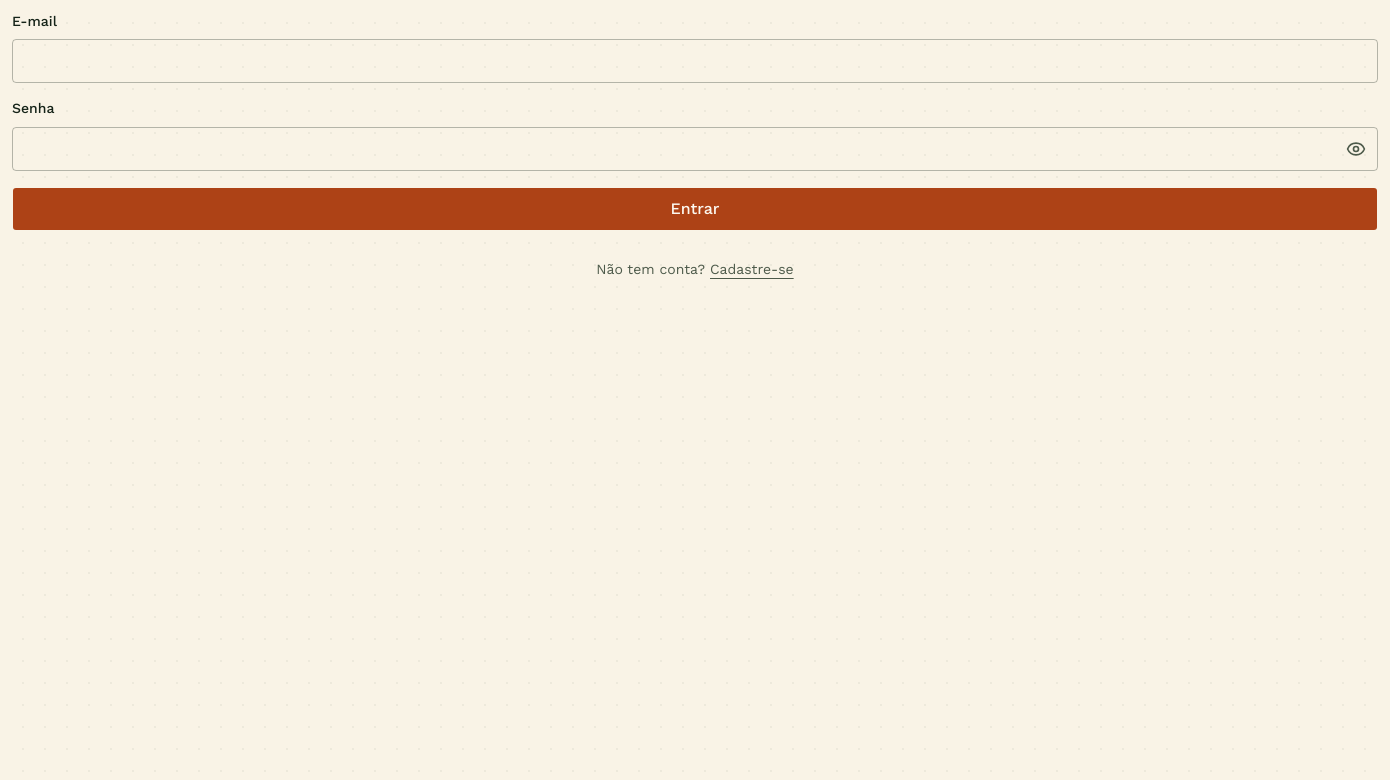
Scenario: LoginForm: erro com toast + aviso inline (role=alert) › rate limit
Type "a@b.com" into the field labelled "E-mail" at (695, 61), box [12,39,1378,83]
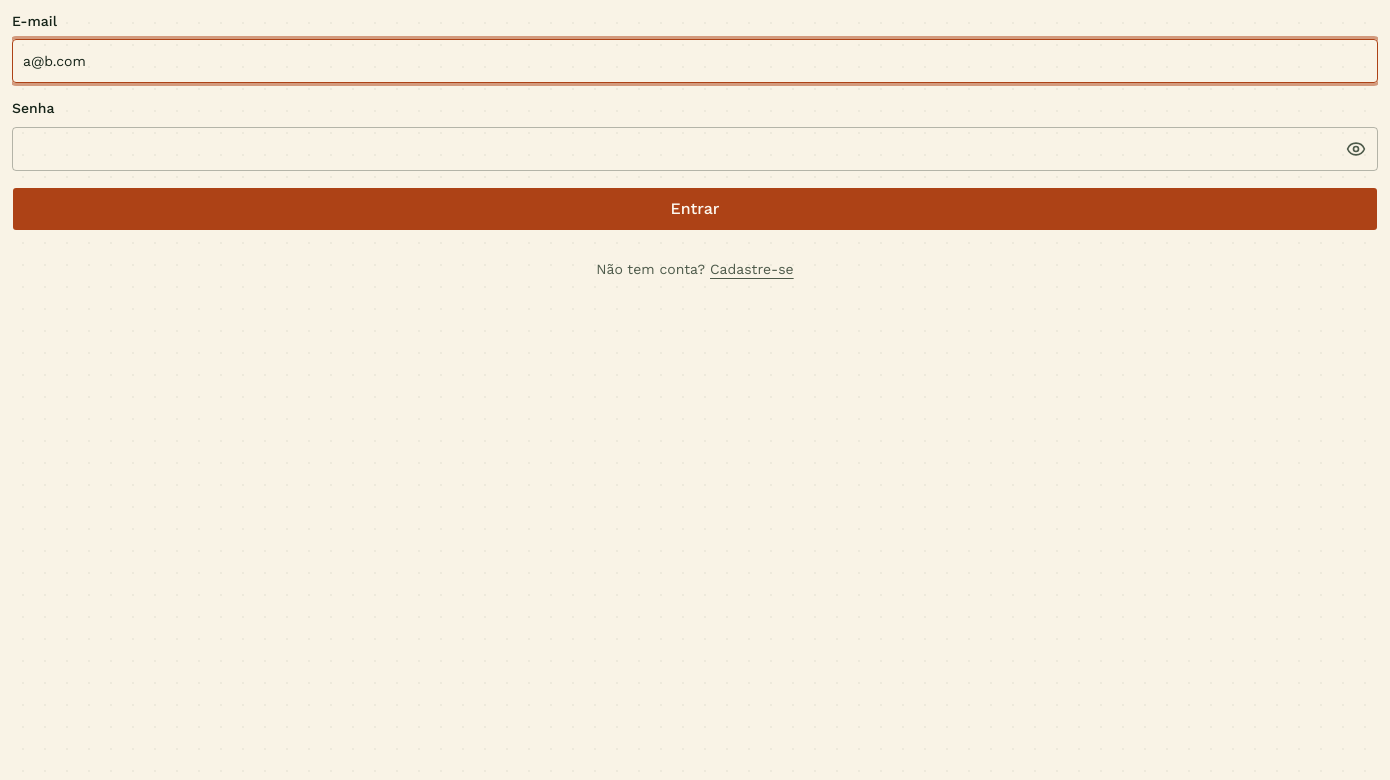
Type "errada" into the password field labelled "Senha" at (695, 148), box [12,126,1378,170]
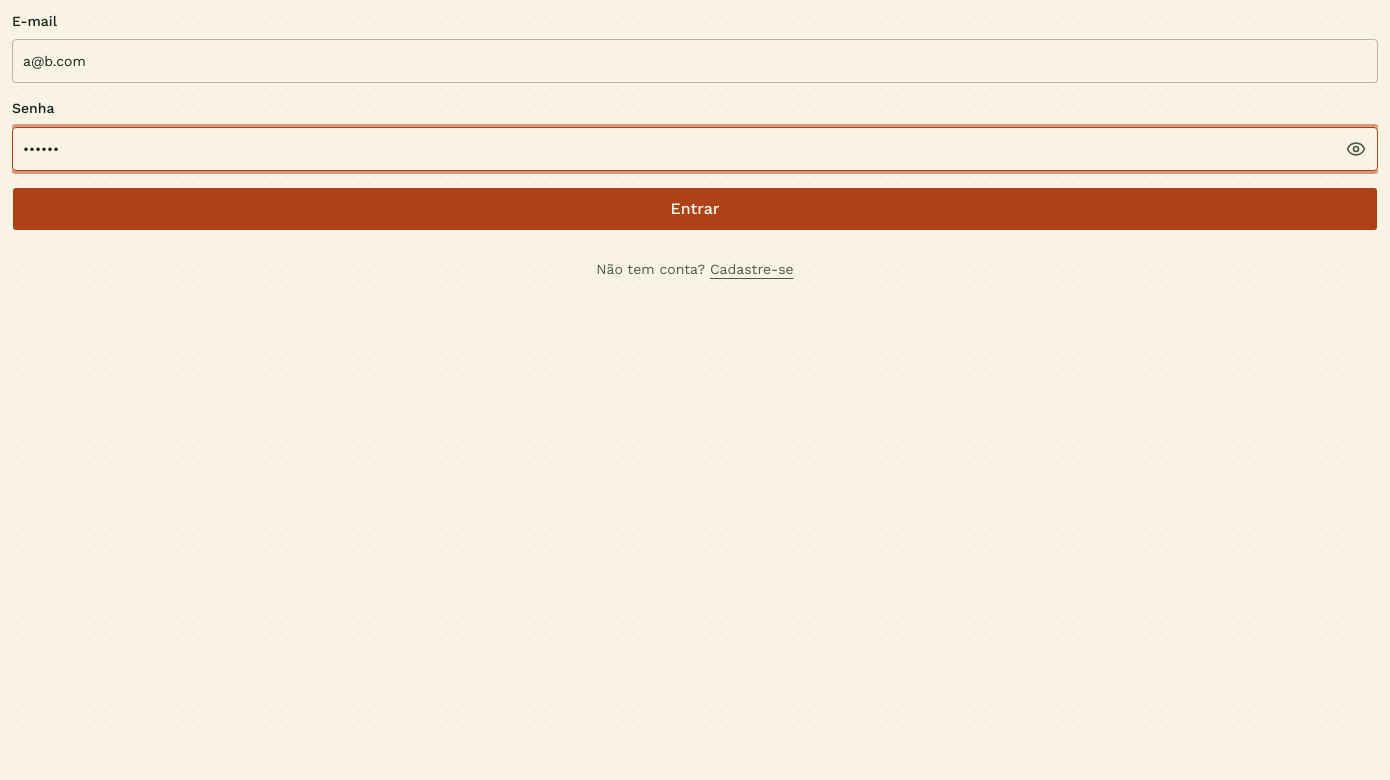
Click the button "Entrar" at (695, 208), box [12,186,1378,230]
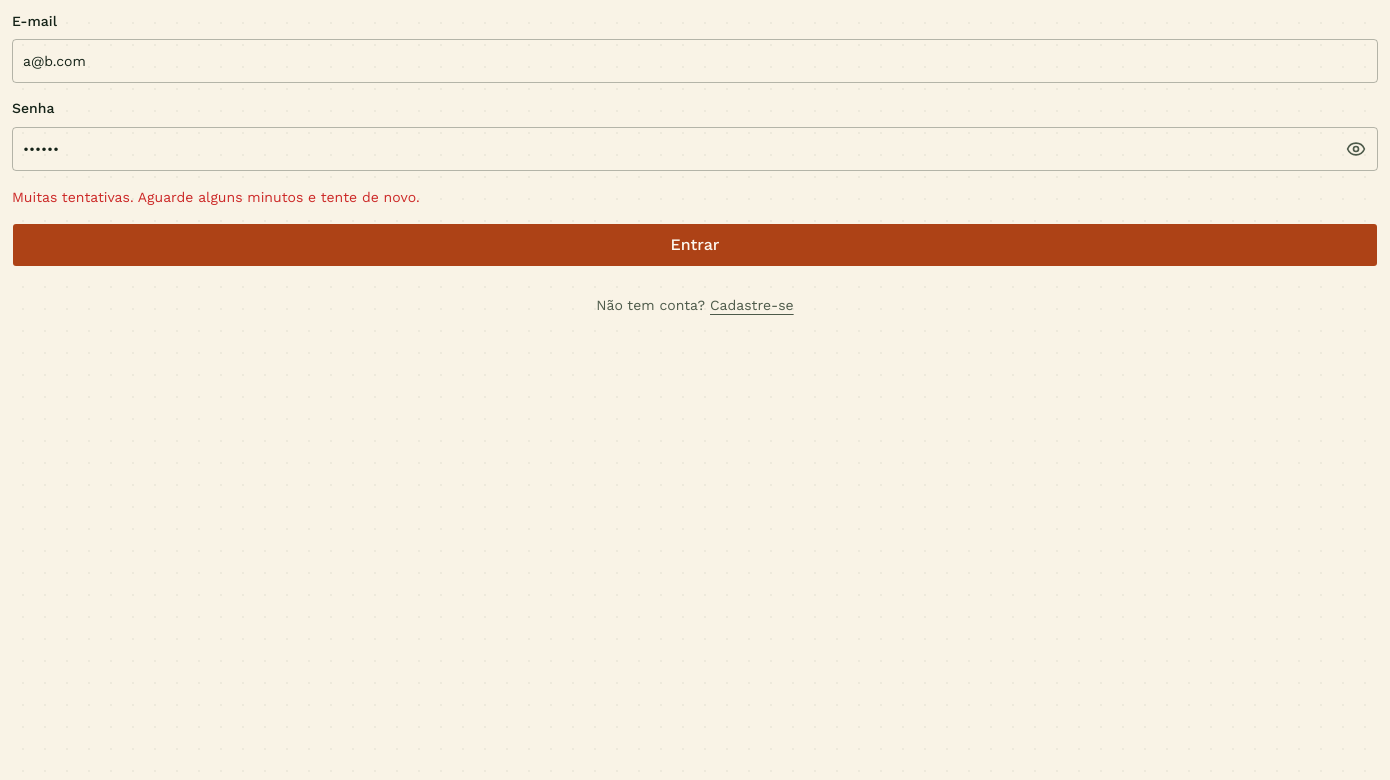
Expected: the message reads "Muitas tentativas. Aguarde alguns minutos e tente de novo.", [12,188,420,204]
